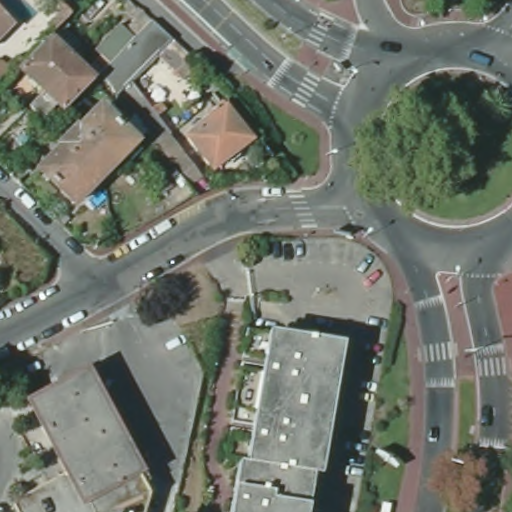pool: (88, 192, 109, 210)
